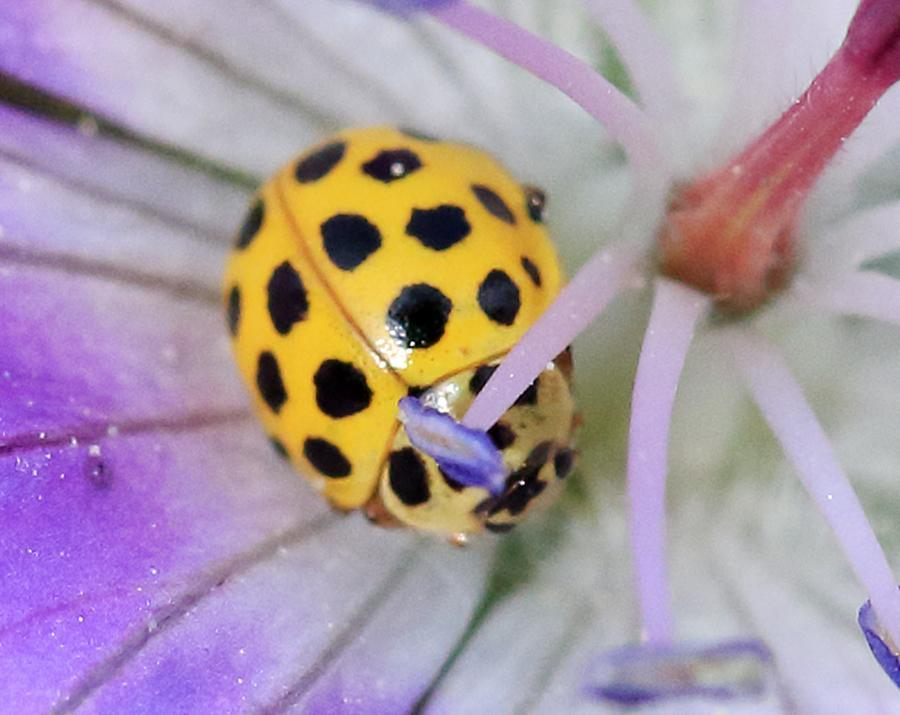ladybug: (217, 119, 595, 557)
